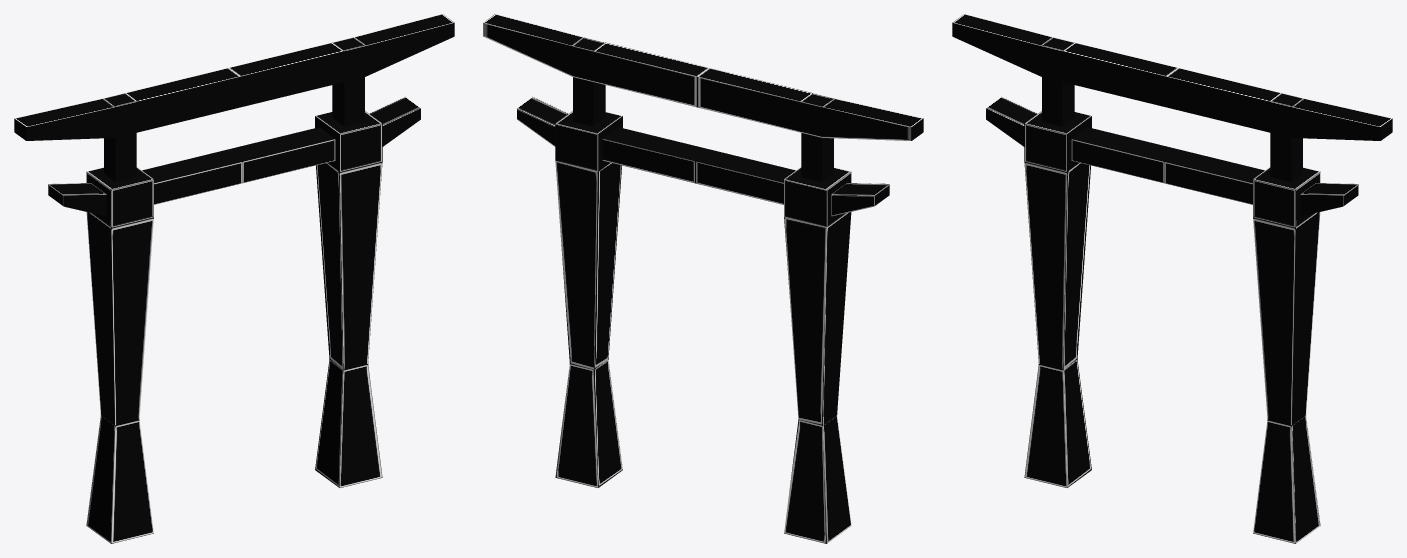
File: gate.fbx
3 renders of one model, left to right at view 1: azimuth 30°, elevation 25°; view 2: azimuth 150°, elevation 25°; view 3: azimuth 330°, elevation 25°, orthographic.
Visible parts, largest first — view 1: Cube; view 2: Cube; view 3: Cube.
Part boxes in pixels (x1,y1,x2,y2): Cube: (14,14,454,543); Cube: (483,14,923,543); Cube: (952,14,1392,543).
Bounding box in the file's own units: 6.44 × 6.2 × 0.6438.
